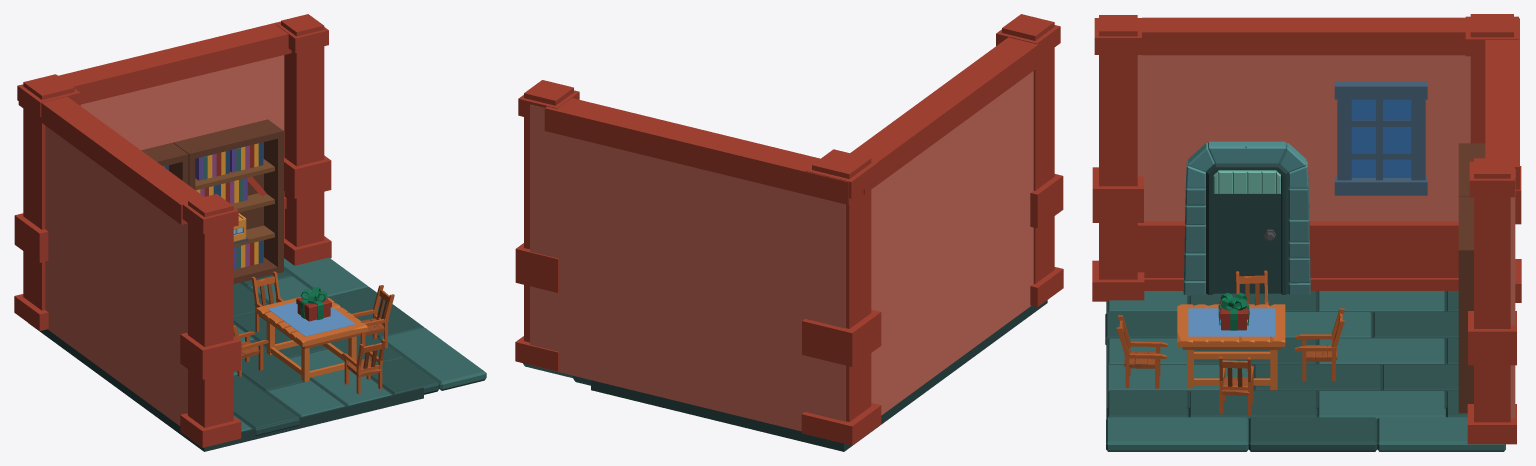
File: Three.fbx
The picture shows the model from 3 angles, left to right: view 1: azimuth 30°, elevation 25°; view 2: azimuth 150°, elevation 25°; view 3: azimuth 270°, elevation 25°; orthographic projection. The views are drawn at different scales.
Visible parts, largest first — view 1: pasted__pCube20, pasted__pCube18, pCube1, pCube4, pCube5, pCube3, pCube2, pCube18, pasted__pCube35, pasted__pCube19, pasted__polySurface2510, pasted__polySurface2509 (+10 smaller); view 2: pasted__pCube20, pCube3, pCube5, pCube2, pCube1, pCube4, pasted__pCube19; view 3: pasted__pCube18, pasted__pCube20, polySurface1, pCube15, pCube1, pCube2, pCube4, pCube19, pasted__pCube35, pCube5, pCube3, pCube18 (+7 smaller).
Boxes of the visible parts, <box> form: pasted__pCube20: <box>45,55,284,425</box>; pasted__pCube18: <box>233,257,486,435</box>; pCube1: <box>180,194,241,447</box>; pCube4: <box>276,14,331,265</box>; pCube5: <box>18,21,291,113</box>; pCube3: <box>14,74,80,330</box>; pCube2: <box>30,96,203,224</box>; pCube18: <box>173,119,283,283</box>; pasted__pCube35: <box>256,295,367,382</box>; pasted__pCube19: <box>28,282,423,451</box>; pasted__polySurface2510: <box>342,339,385,394</box>; pasted__polySurface2509: <box>352,285,394,348</box>; pasted__pCube20: <box>530,71,1033,431</box>; pCube3: <box>801,149,881,445</box>; pCube5: <box>544,98,863,204</box>; pCube2: <box>850,37,1038,194</box>; pCube1: <box>996,14,1063,306</box>; pCube4: <box>515,80,579,371</box>; pasted__pCube19: <box>591,300,1047,451</box>; pasted__pCube18: <box>1105,291,1505,451</box>; pasted__pCube20: <box>1137,55,1515,418</box>; polySurface1: <box>1183,141,1310,295</box>; pCube15: <box>1137,221,1458,290</box>; pCube1: <box>1092,15,1144,301</box>; pCube2: <box>1142,17,1465,55</box>; pCube4: <box>1467,158,1516,444</box>; pCube19: <box>1334,81,1427,195</box>; pasted__pCube35: <box>1177,304,1285,390</box>; pCube5: <box>1485,18,1519,189</box>; pCube3: <box>1465,14,1521,302</box>; pCube18: <box>1458,197,1473,413</box>.
Size of the model in its own units: 527 by 414 by 576.
